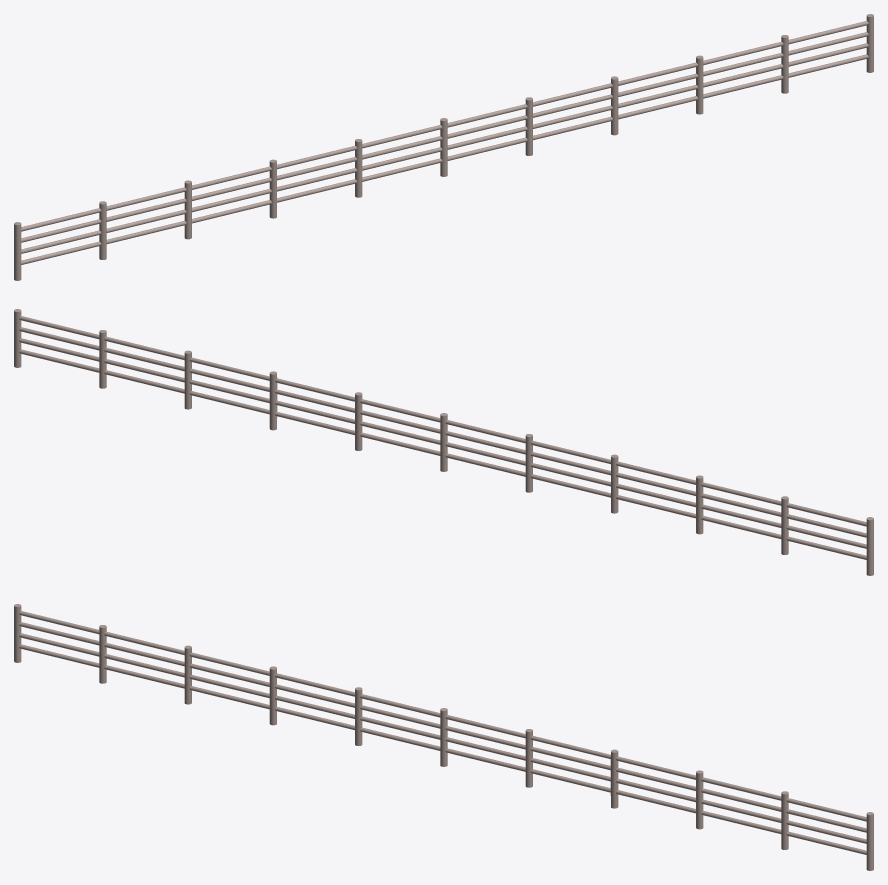
The model's file is 1013_fence_10.glb.
The picture shows the model from 3 angles, top to bottom: view 1: azimuth 30°, elevation 25°; view 2: azimuth 150°, elevation 25°; view 3: azimuth 330°, elevation 25°; orthographic projection.
Parts seen in each view (by area): view 1: Body; view 2: Body; view 3: Body.
Boxes of the visible parts, x1,y1,x2,y2 form: Body: (14,14,873,280); Body: (14,309,873,575); Body: (14,604,873,870).
Size of the model in its own units: 20.15 by 1.25 by 0.15.
